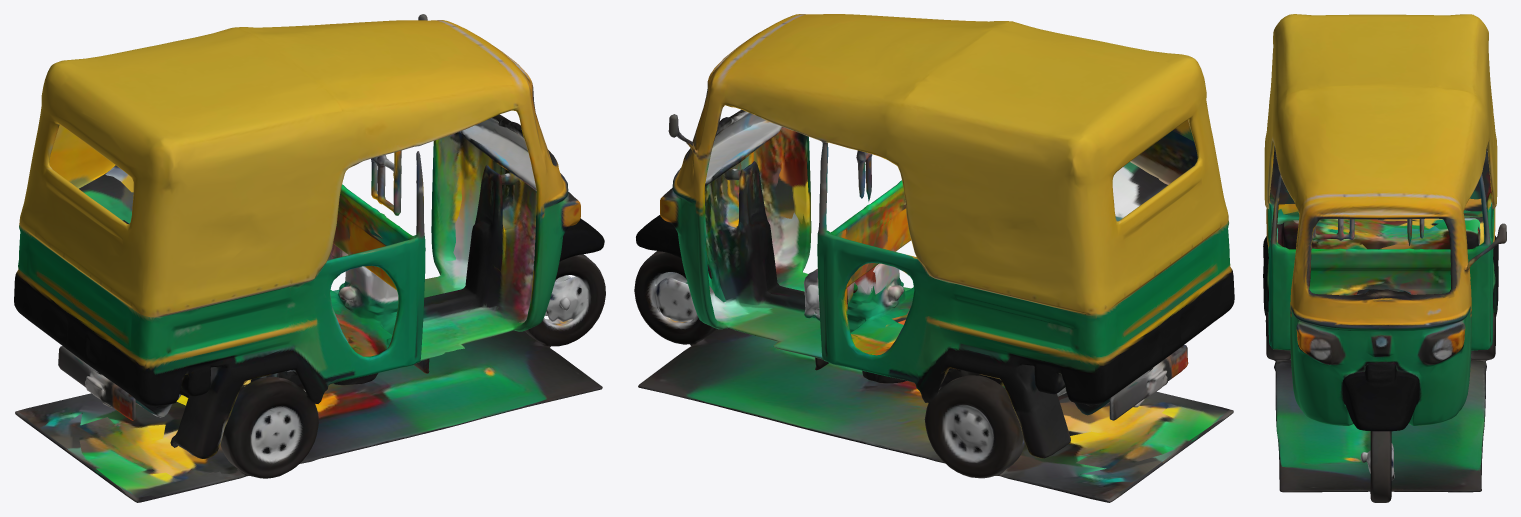
File: Auto.glb
3 renders of one model, left to right at view 1: azimuth 30°, elevation 25°; view 2: azimuth 150°, elevation 25°; view 3: azimuth 270°, elevation 25°, orthographic. The views are drawn at different scales.
Parts seen in each view (by area): view 1: tripo_node_81d884d8-72a3-421e-b1a7-2796bfcd87c9; view 2: tripo_node_81d884d8-72a3-421e-b1a7-2796bfcd87c9; view 3: tripo_node_81d884d8-72a3-421e-b1a7-2796bfcd87c9.
Boxes of the visible parts, x1,y1,x2,y2 form: tripo_node_81d884d8-72a3-421e-b1a7-2796bfcd87c9: (14,14,605,502); tripo_node_81d884d8-72a3-421e-b1a7-2796bfcd87c9: (634,14,1234,502); tripo_node_81d884d8-72a3-421e-b1a7-2796bfcd87c9: (1263,14,1506,502).
Bounding box in the file's own units: 0.9466 × 0.6078 × 0.445.
1 material, 1 textured.
